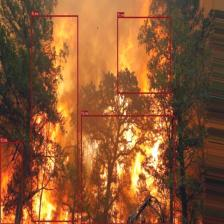fire: (80, 115, 174, 224), (31, 15, 78, 222), (117, 16, 170, 94), (0, 142, 22, 224)
